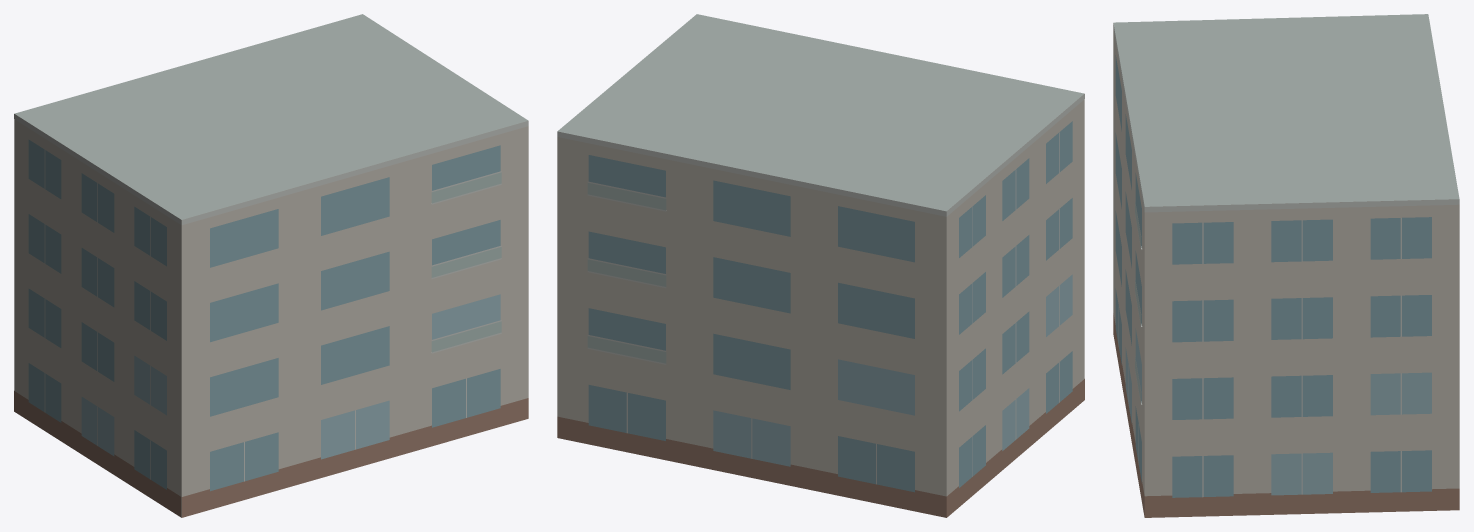
Rendered from survey-upis-32798537.glb.
The picture shows the model from 3 angles, left to right: view 1: azimuth 30°, elevation 25°; view 2: azimuth 150°, elevation 25°; view 3: azimuth 270°, elevation 25°; orthographic projection. The views are drawn at different scales.
Visible parts, largest first — view 1: survey-upis-32798537.tmp; view 2: survey-upis-32798537.tmp; view 3: survey-upis-32798537.tmp.
Part boxes in pixels (<box>): survey-upis-32798537.tmp: <box>14,14,528,517</box>; survey-upis-32798537.tmp: <box>557,14,1084,517</box>; survey-upis-32798537.tmp: <box>1113,14,1459,517</box>.
Bounding box in the file's own units: 18.1 × 13.6 × 13.73.
